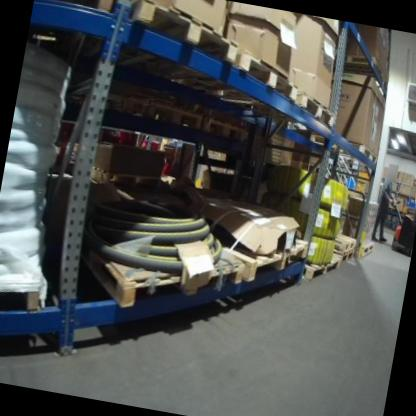pallet: (71, 224, 247, 329), (121, 0, 245, 68), (221, 221, 311, 293), (231, 46, 305, 104), (88, 165, 161, 195), (339, 50, 391, 86), (293, 89, 339, 129), (146, 100, 204, 130), (302, 250, 341, 289), (33, 0, 119, 17), (204, 113, 249, 141), (347, 140, 381, 165), (332, 229, 358, 255), (333, 245, 355, 264), (357, 240, 376, 261)
pallet_truck: (377, 154, 416, 261)
